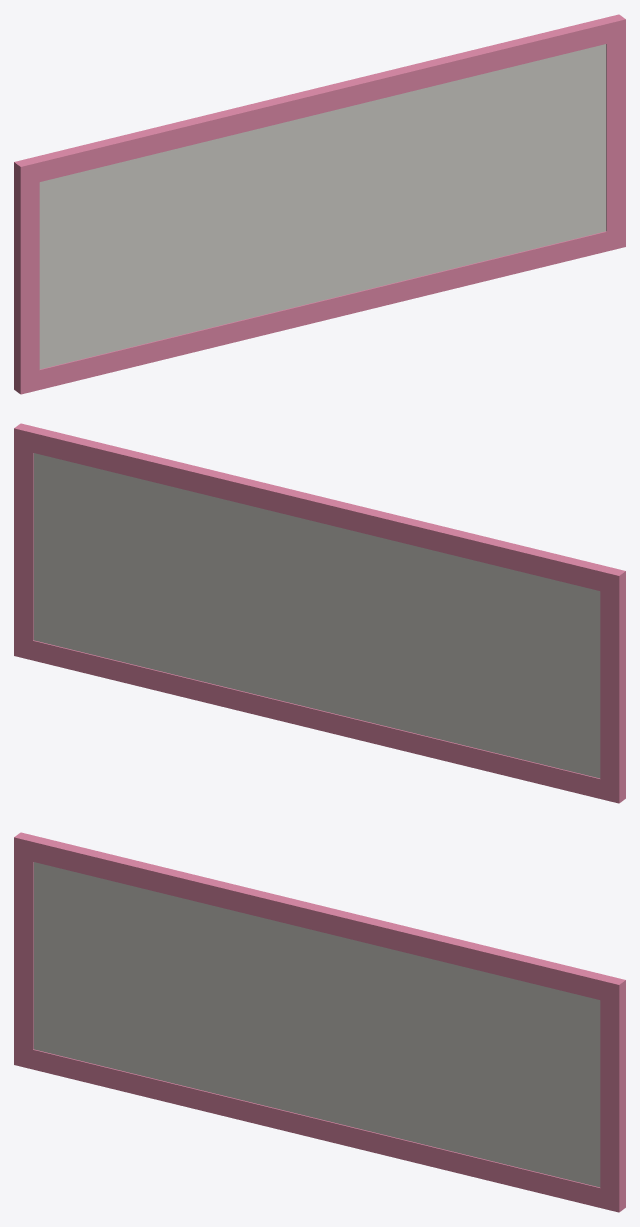
File: just_married.glb
The picture shows the model from 3 angles, top to bottom: view 1: azimuth 30°, elevation 25°; view 2: azimuth 150°, elevation 25°; view 3: azimuth 330°, elevation 25°; orthographic projection.
Parts seen in each view (by area): view 1: board_wedding_board, board_wedding_pink; view 2: board_wedding_board, board_wedding_pink; view 3: board_wedding_board, board_wedding_pink.
Boxes of the visible parts, left/top/right/bottom form: board_wedding_board: left=39, top=44, right=606, bottom=369; board_wedding_pink: left=14, top=14, right=625, bottom=394; board_wedding_board: left=33, top=453, right=600, bottom=778; board_wedding_pink: left=14, top=423, right=625, bottom=803; board_wedding_board: left=33, top=862, right=600, bottom=1187; board_wedding_pink: left=14, top=832, right=625, bottom=1212.
Size of the model in its own units: 1.28 by 0.46 by 0.025.
